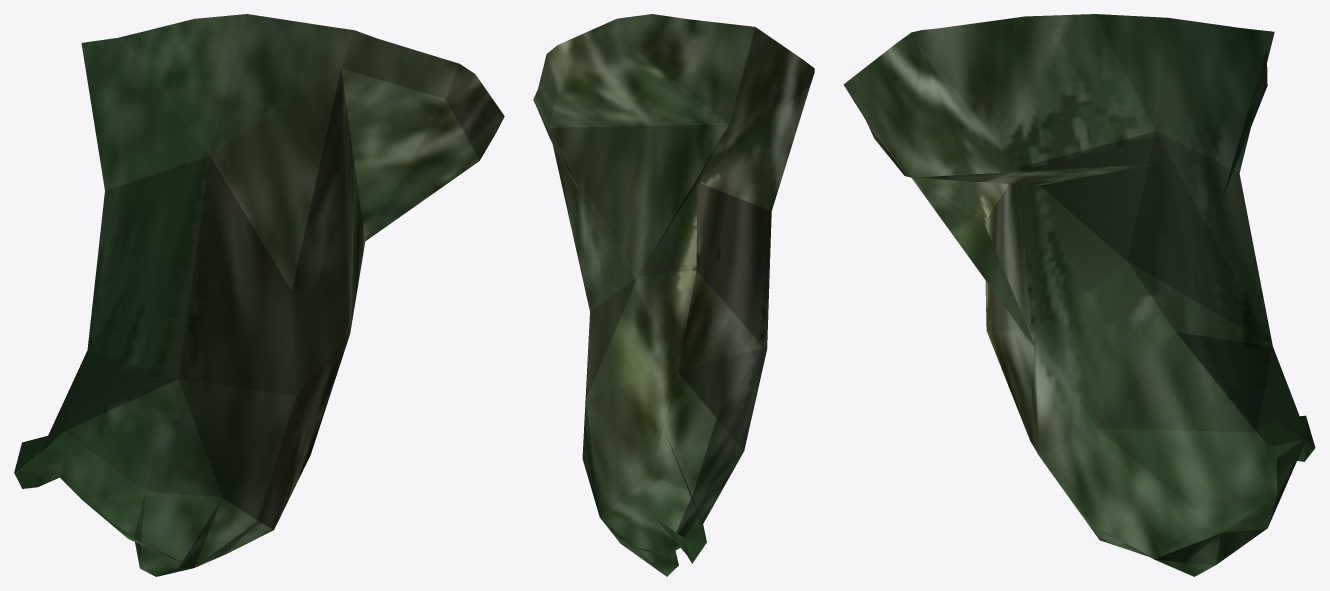
3 views of the same model, side by side, from view 1: azimuth 30°, elevation 25°; view 2: azimuth 150°, elevation 25°; view 3: azimuth 270°, elevation 25° (orthographic). The views are drawn at different scales.
Bounding box in the file's own units: 0.9672 × 1.5 × 1.23.
1 material, 1 textured.
